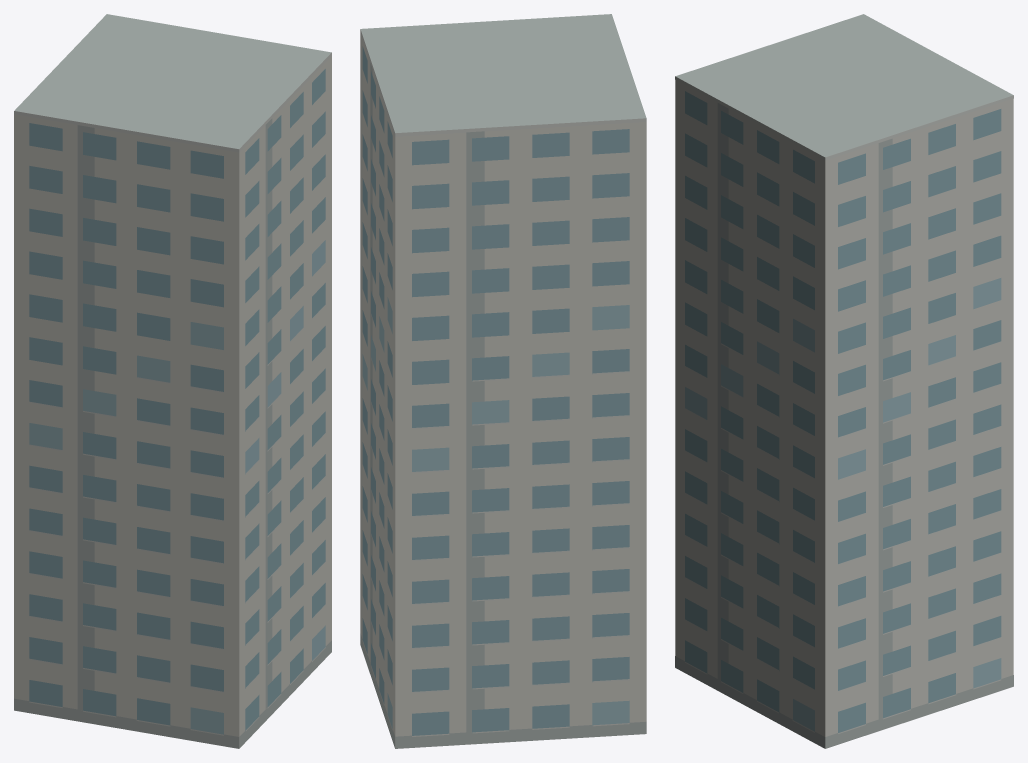
File: residential-ade4f066-51e2-4b57-9128-0120e6aa7bb4.glb
3 views of the same model, side by side, from view 1: azimuth 30°, elevation 25°; view 2: azimuth 150°, elevation 25°; view 3: azimuth 270°, elevation 25° (orthographic). The views are drawn at different scales.
Visible parts, largest first — view 1: residential-ade4f066-51e2-4b57-9128-0120e6aa7bb4.tmp; view 2: residential-ade4f066-51e2-4b57-9128-0120e6aa7bb4.tmp; view 3: residential-ade4f066-51e2-4b57-9128-0120e6aa7bb4.tmp.
Boxes of the visible parts, left/top/right/bottom form: residential-ade4f066-51e2-4b57-9128-0120e6aa7bb4.tmp: left=14, top=14, right=331, bottom=748; residential-ade4f066-51e2-4b57-9128-0120e6aa7bb4.tmp: left=360, top=14, right=646, bottom=748; residential-ade4f066-51e2-4b57-9128-0120e6aa7bb4.tmp: left=675, top=14, right=1013, bottom=748.
Bounding box in the file's own units: 22.91 × 44 × 22.84.
